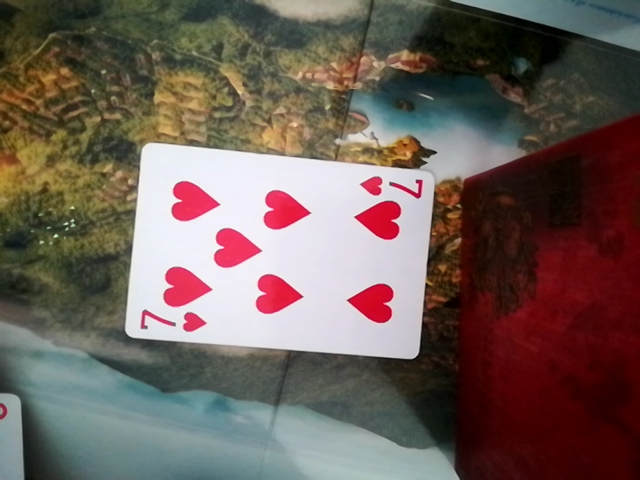hx 7: (121, 143, 440, 363)
